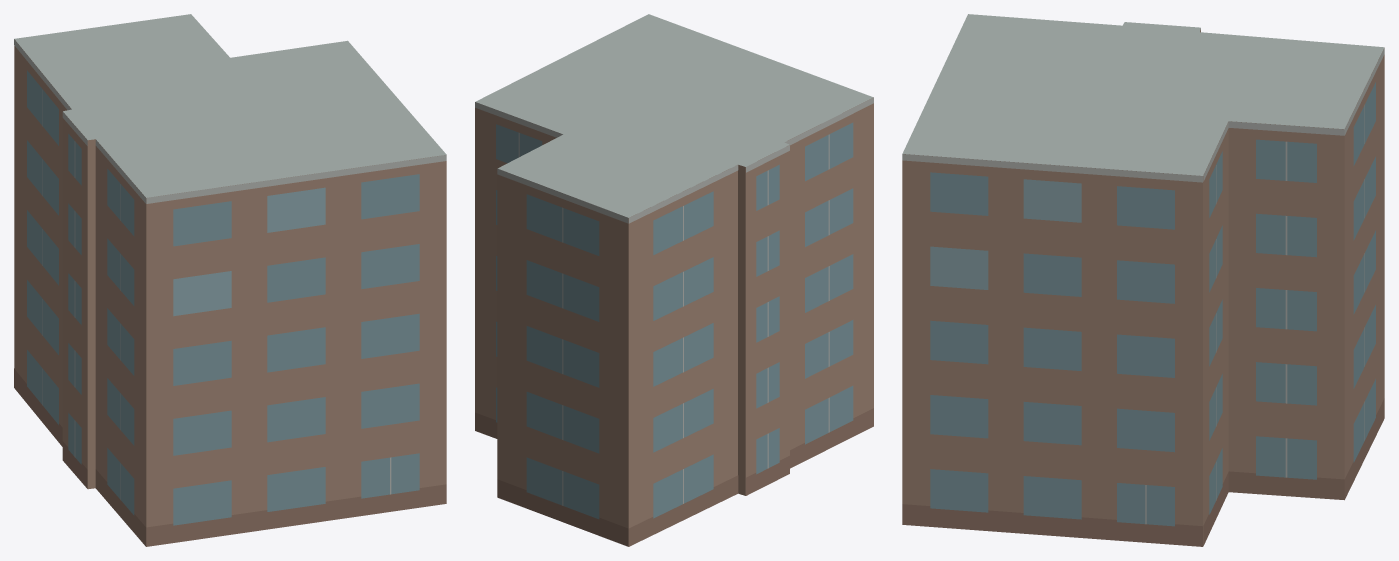
The model's file is survey-upis-32494505.glb.
The picture shows the model from 3 angles, left to right: view 1: azimuth 30°, elevation 25°; view 2: azimuth 150°, elevation 25°; view 3: azimuth 270°, elevation 25°; orthographic projection. The views are drawn at different scales.
Parts seen in each view (by area): view 1: survey-upis-32494505.tmp; view 2: survey-upis-32494505.tmp; view 3: survey-upis-32494505.tmp.
Part boxes in pixels (x1,y1,x2,y2): survey-upis-32494505.tmp: [14, 14, 446, 546]; survey-upis-32494505.tmp: [475, 14, 873, 546]; survey-upis-32494505.tmp: [902, 14, 1384, 546].
Size of the model in its own units: 12.84 by 13.7 by 16.16.
